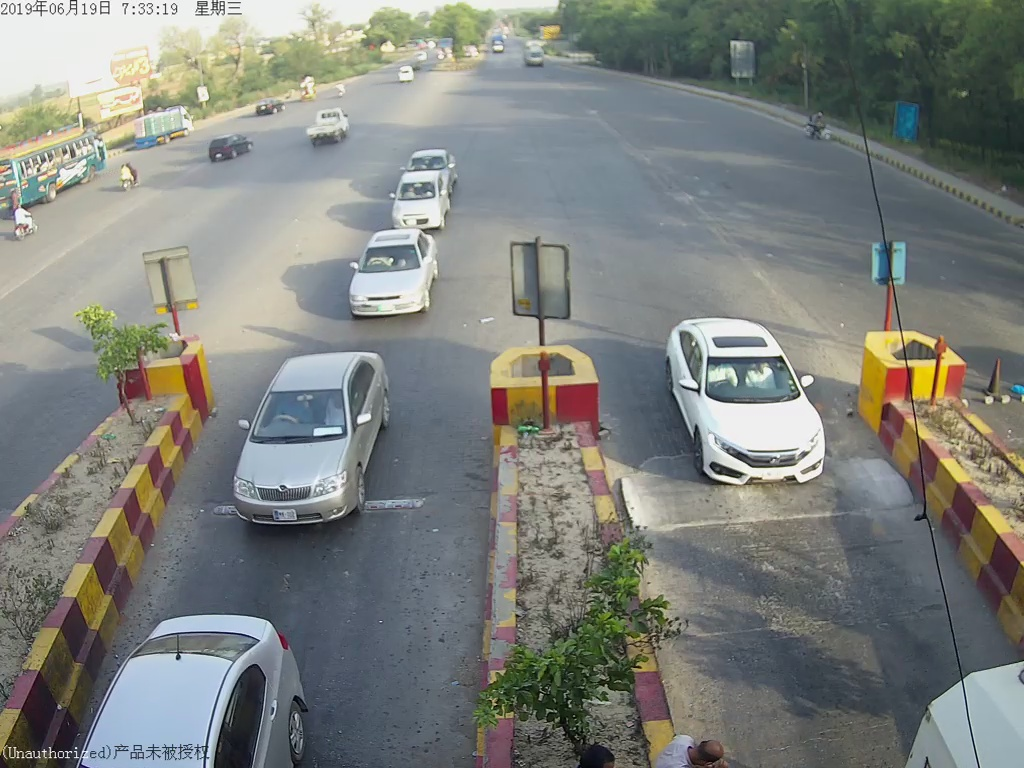Cat-1: (222, 349, 405, 541), (665, 317, 849, 491), (337, 225, 444, 317)
